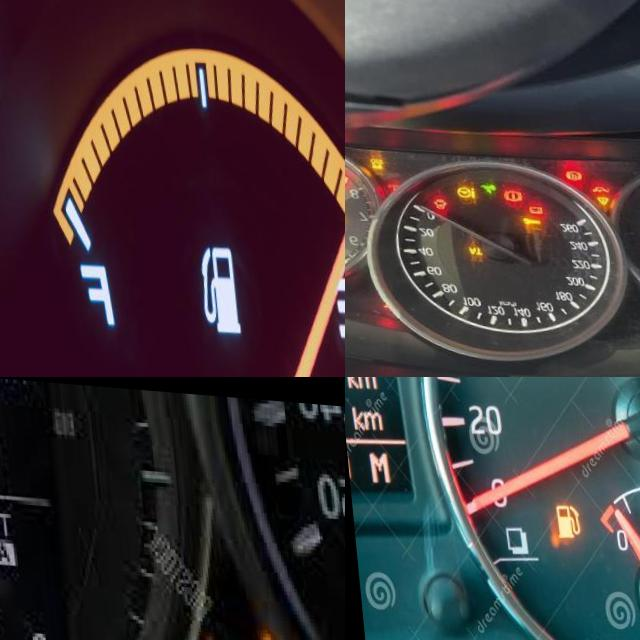Electronic Power Steering: (450, 181, 469, 194)
High Engine Coolant Temperature: (381, 180, 393, 192)
